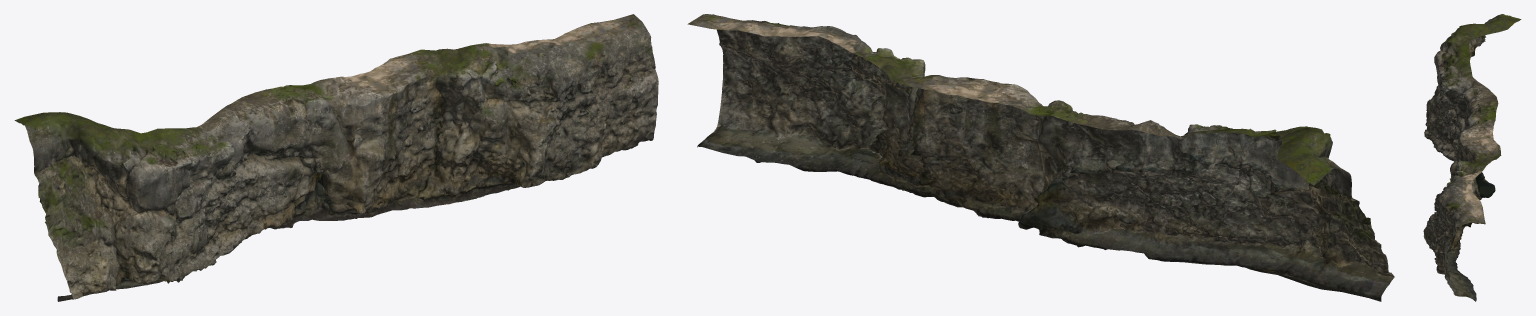
File: coastal_cliff_02.glb
3 views of the same model, side by side, from view 1: azimuth 30°, elevation 25°; view 2: azimuth 150°, elevation 25°; view 3: azimuth 270°, elevation 25° (orthographic). The views are drawn at different scales.
Parts seen in each view (by area): view 1: coastal_cliff_02_LOD0; view 2: coastal_cliff_02_LOD0; view 3: coastal_cliff_02_LOD0.
Part boxes in pixels (x1=…): coastal_cliff_02_LOD0: x1=14, y1=14, x2=658, y2=301; coastal_cliff_02_LOD0: x1=687, y1=14, x2=1394, y2=301; coastal_cliff_02_LOD0: x1=1423, y1=14, x2=1521, y2=301.
Bounding box in the file's own units: 40.93 × 10.05 × 8.65.
Materials: 1 (1 with a texture image).
